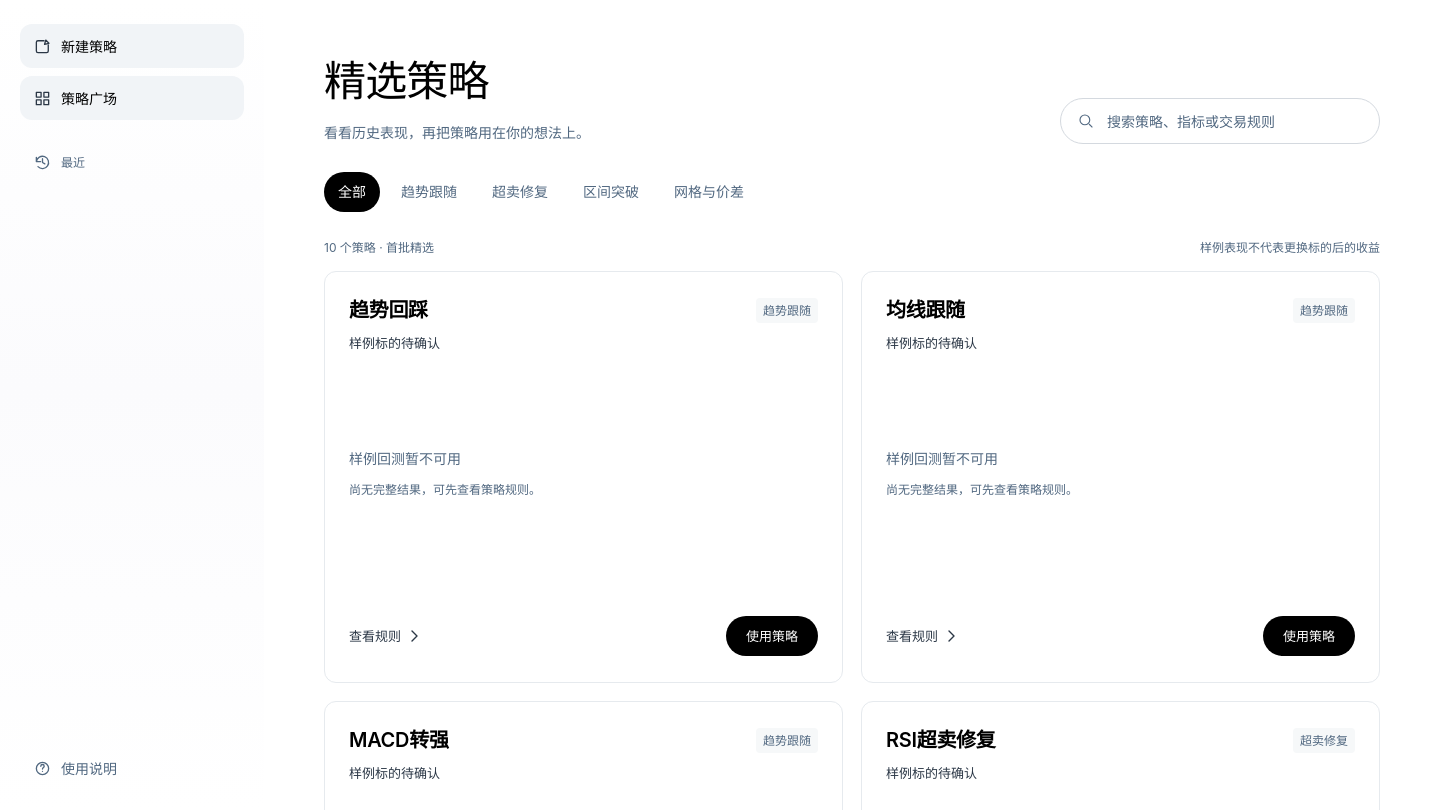
it: debounces composition and ignores stale suggestions after typing or clearing
Click the button with aria-label "查看均线跟随策略" at (925, 310), box [886,296,965,324]
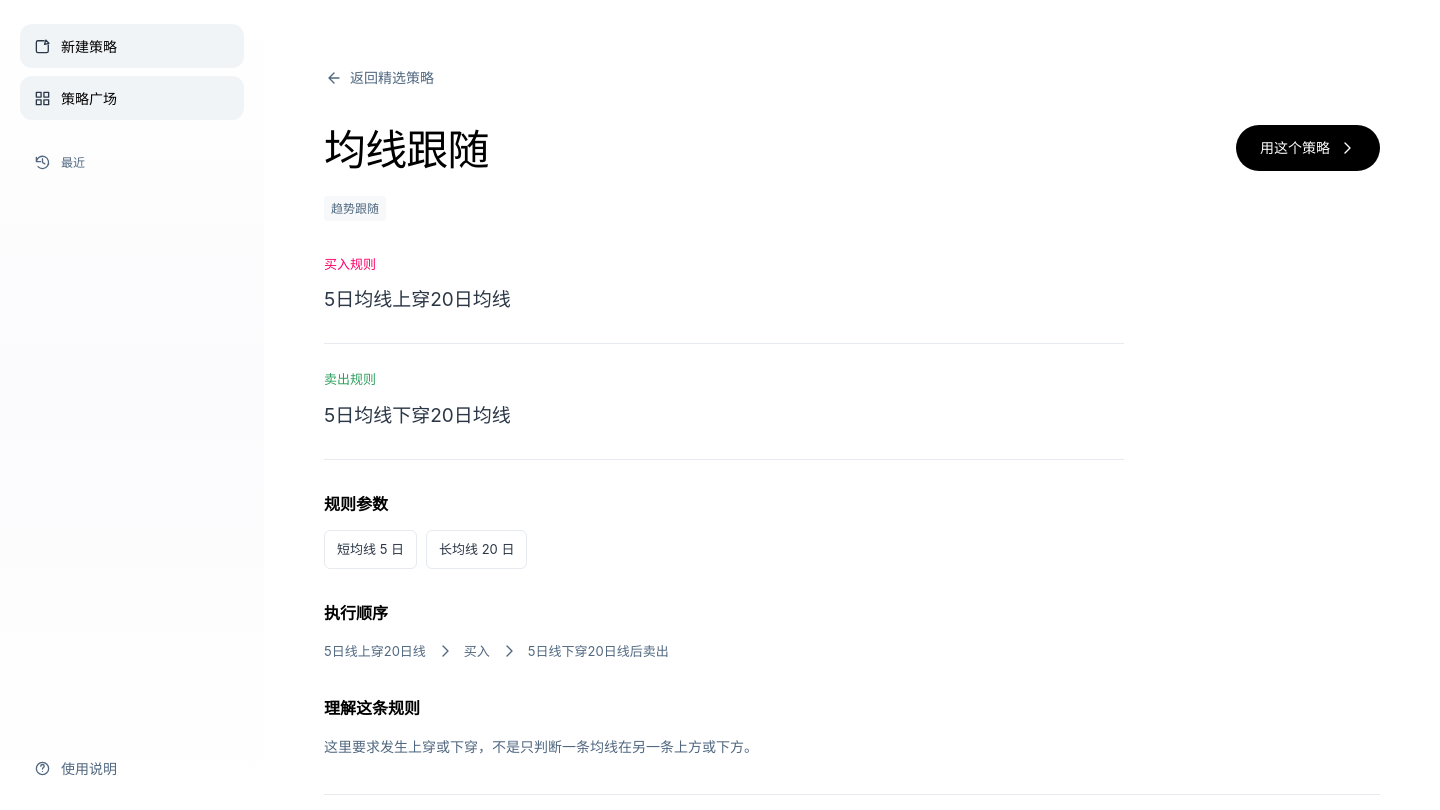
Click the button "用这个策略" at (1308, 148), box [1236,125,1380,171]
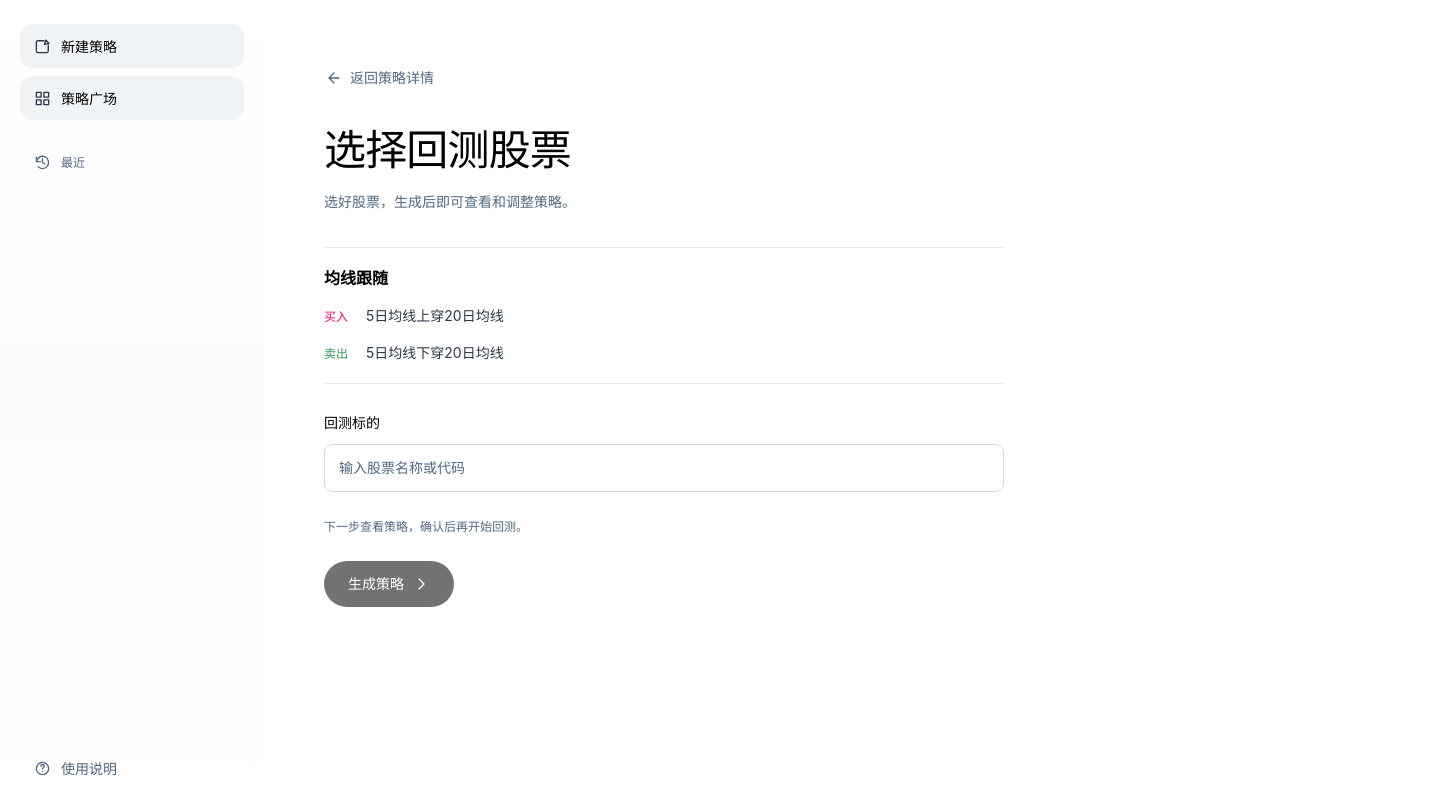
Type "顶" into the field labelled "回测标的" at (664, 468), box [324,444,1004,492]
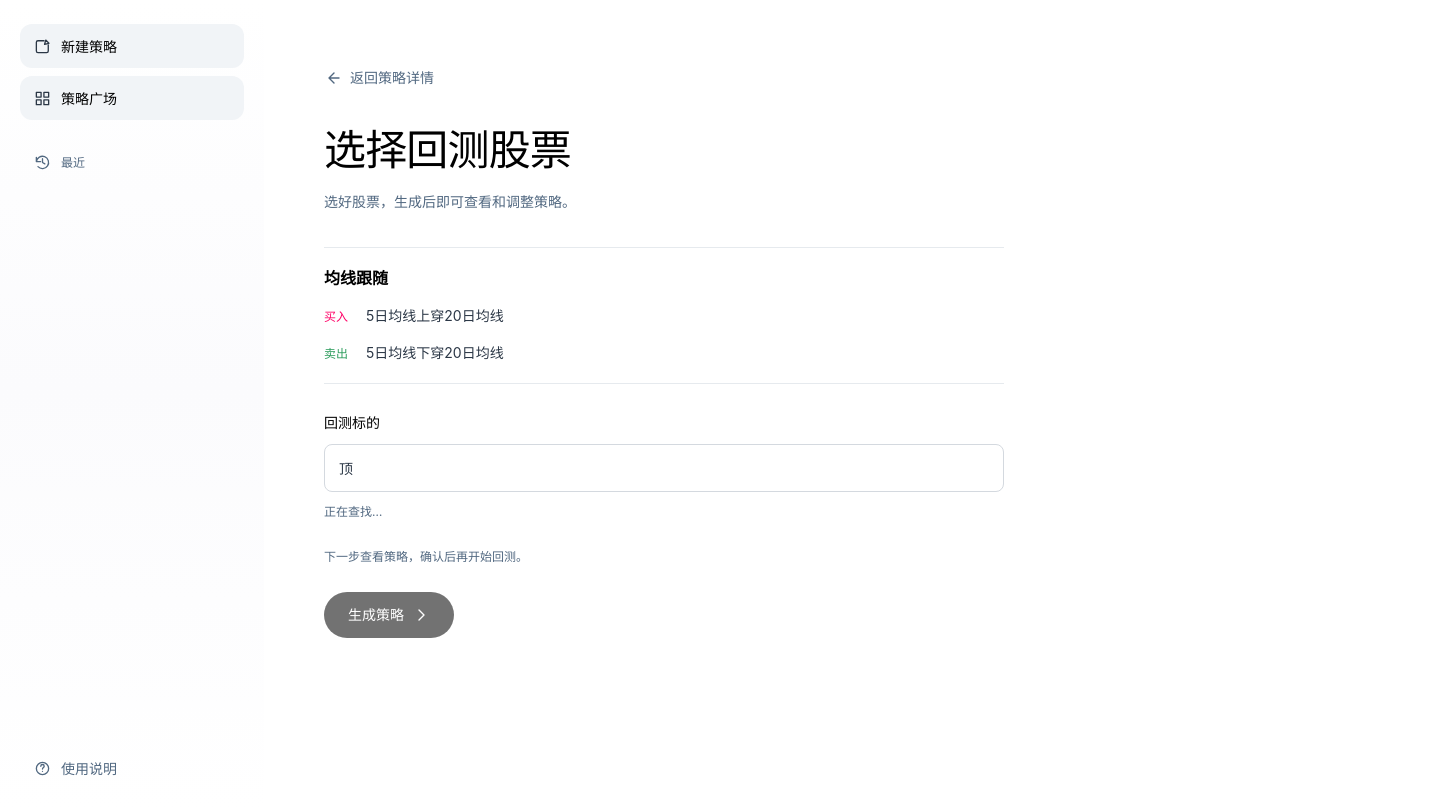
Replace the text in the field labelled "回测标的" with "茅台" at (664, 468), box [324,444,1004,492]
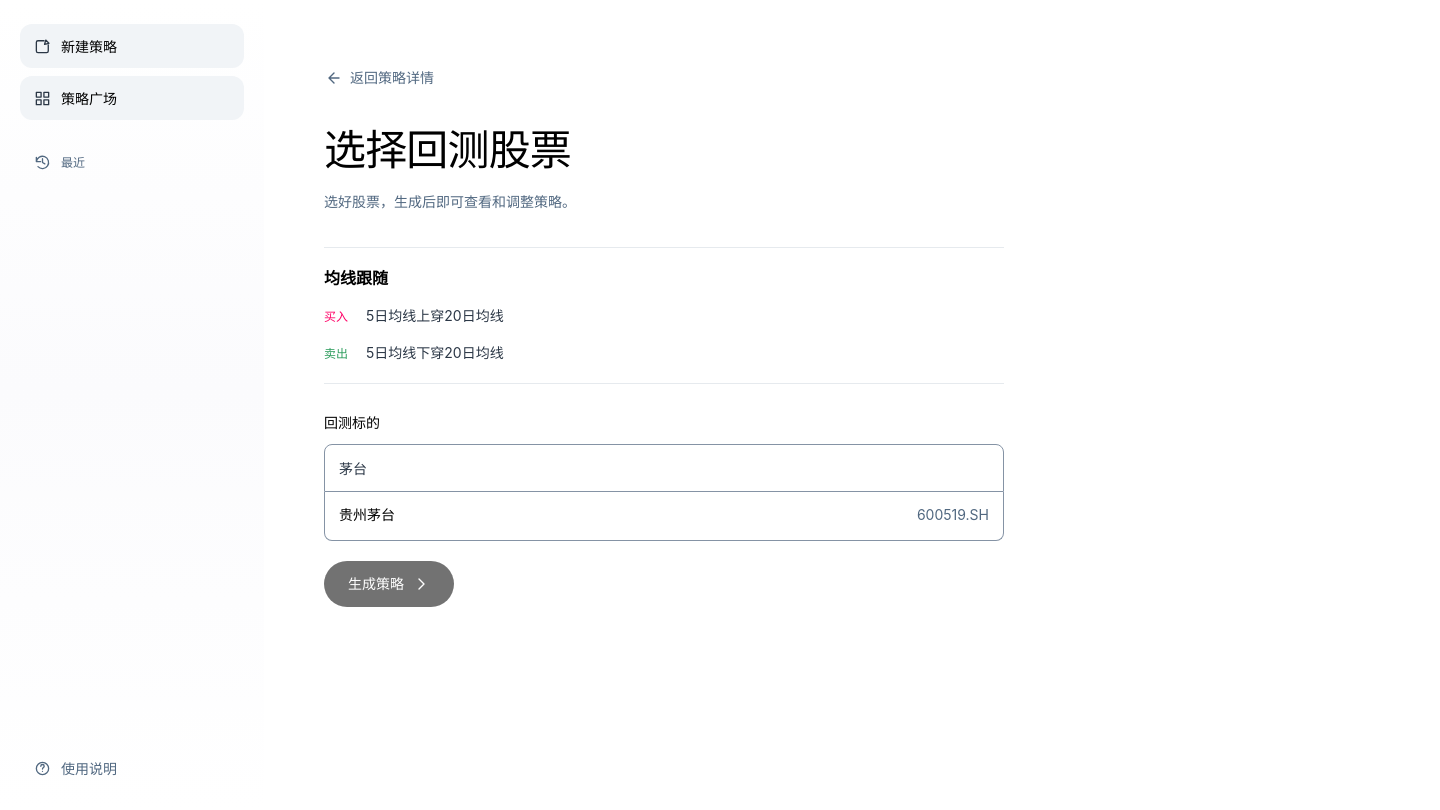
expect the button "贵州茅台 600519.SH" is shown: met
Click the button "贵州茅台 600519.SH" at (367, 514), box [325,492,1003,540]
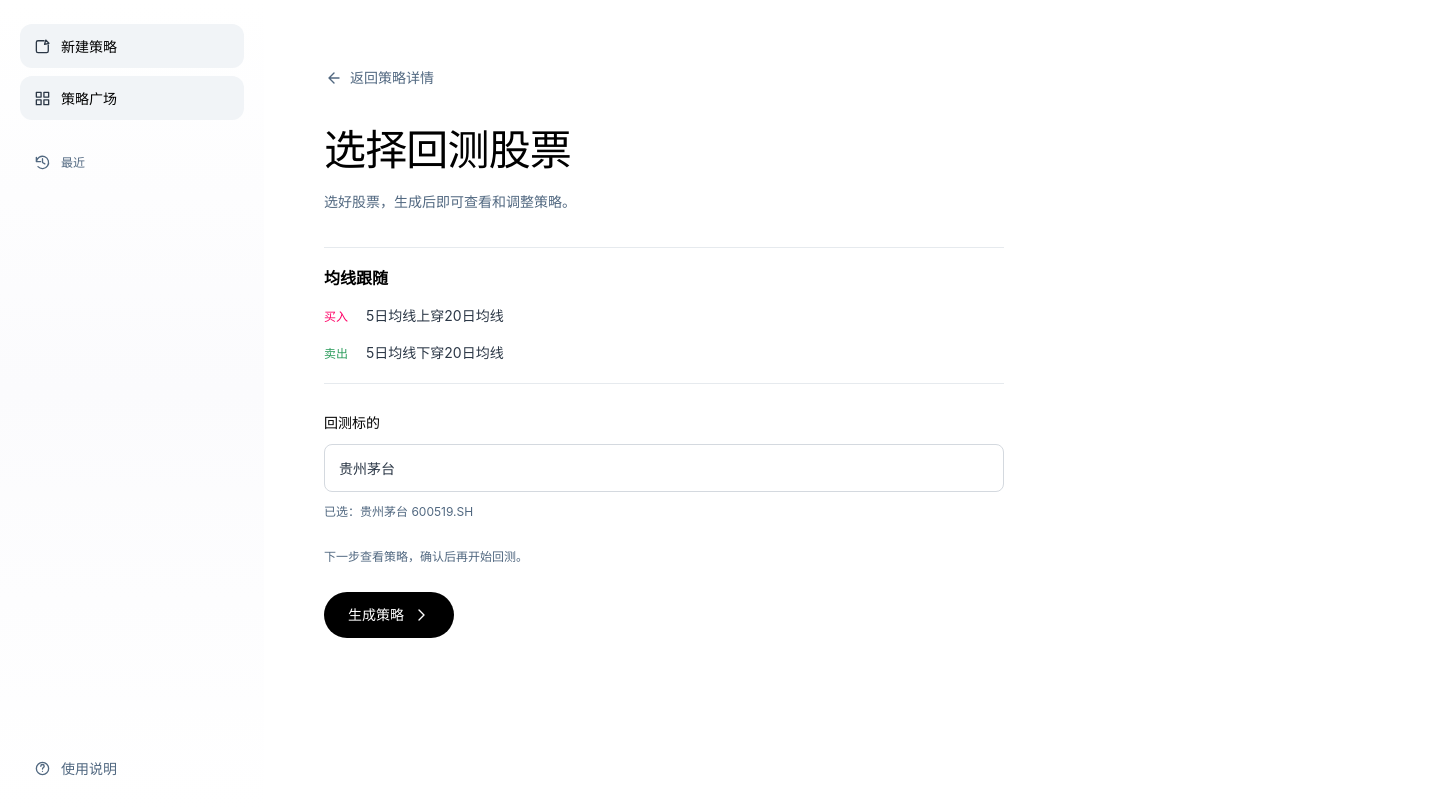
expect the text "已选：贵州茅台 600519.SH" is shown: met, box [324,504,473,519]
Clear the field labelled "回测标的" at (664, 468), box [324,444,1004,492]
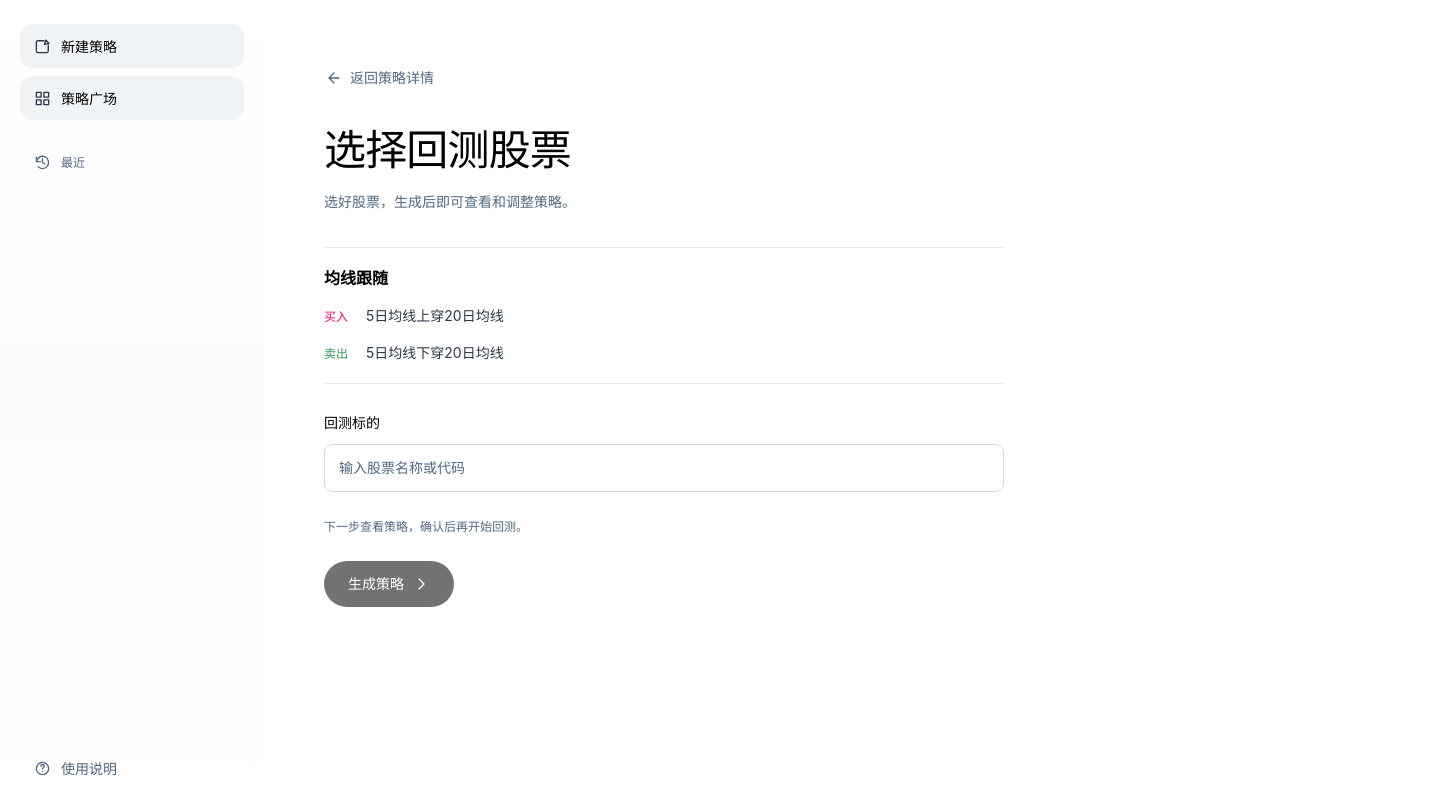
expect the text "已选：贵州茅台 600519.SH" is gone: met
expect the message "已选：贵州茅台 600519.SH" is gone: met
expect the button "生成策略" is disabled: met, box [324,561,454,607]
